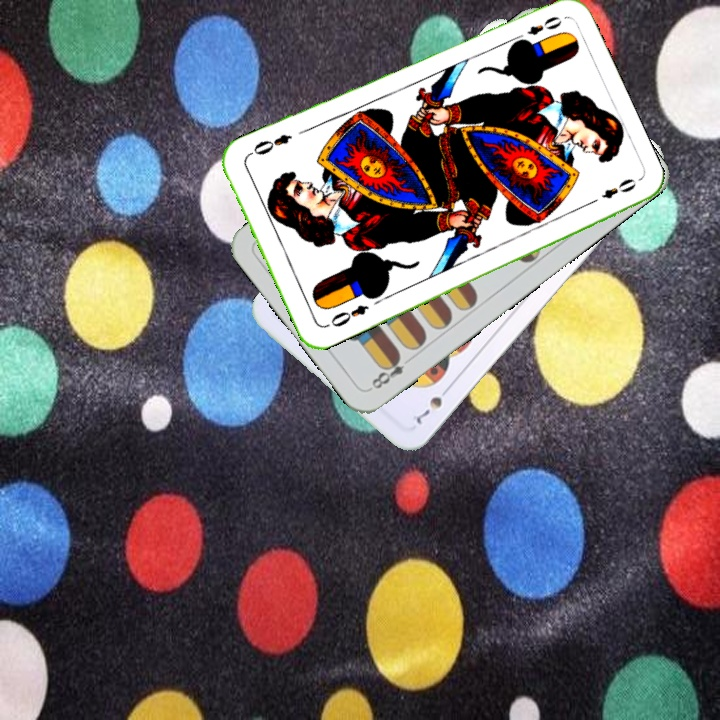E8: (365, 350, 416, 393)
EO: (509, 12, 565, 45), (321, 300, 372, 330)
S7: (409, 381, 454, 427)
